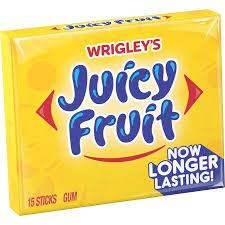Plastik: (0, 5, 225, 195)
